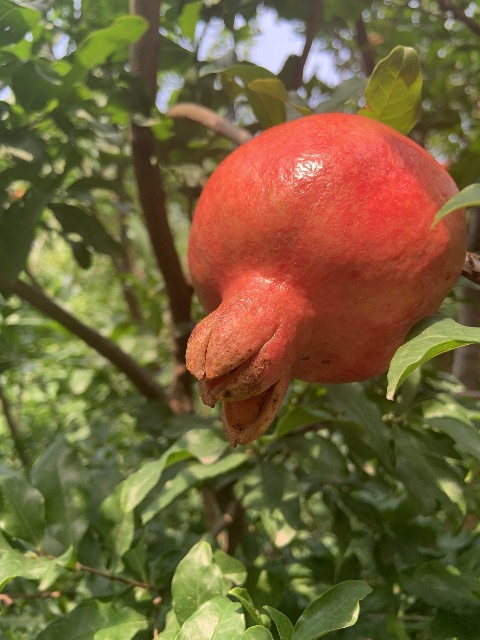ripe: (180, 113, 466, 444)
